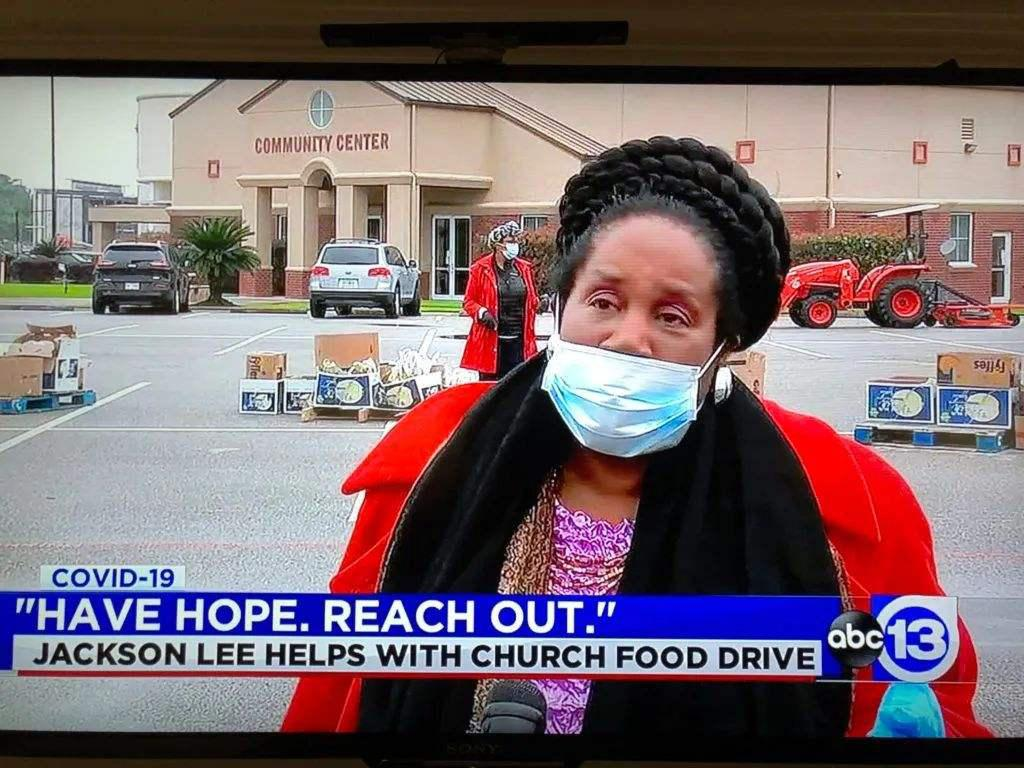OK: (502, 236, 525, 260)
WRONG: (555, 256, 718, 457)
